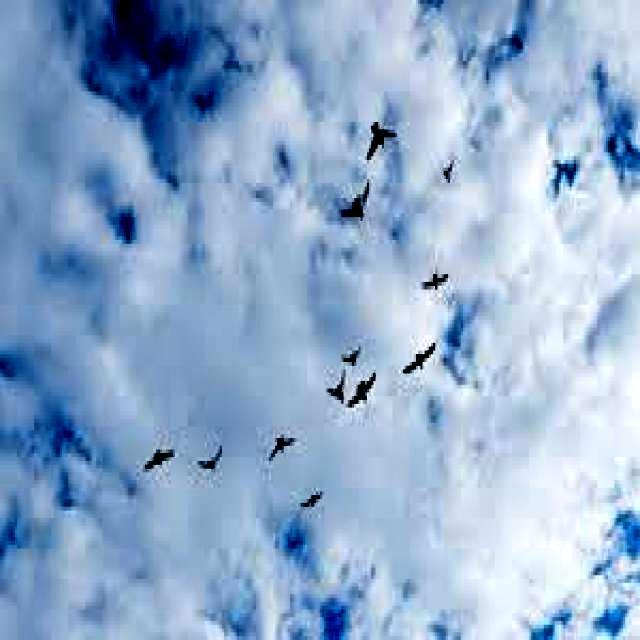bird: (353, 108, 409, 182), (332, 162, 376, 242), (397, 335, 444, 396), (138, 431, 182, 492), (346, 360, 381, 432), (406, 251, 452, 301), (194, 440, 233, 490), (293, 482, 338, 524), (330, 334, 368, 376), (264, 421, 296, 467), (320, 368, 346, 418), (437, 145, 458, 200)
